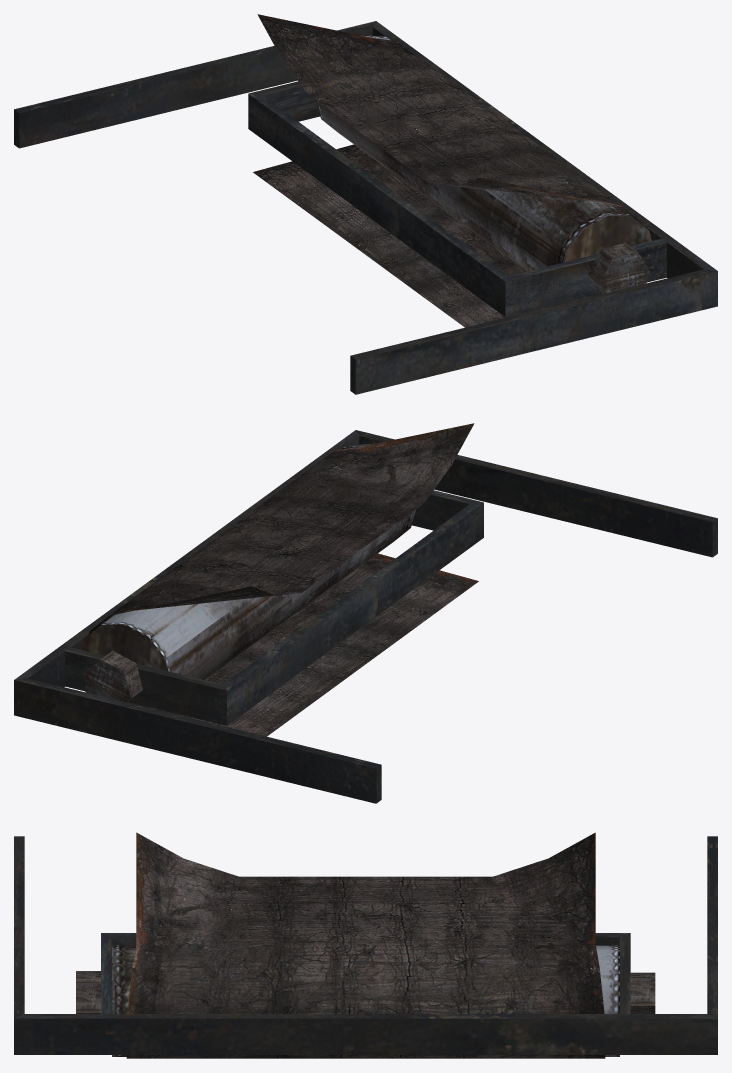
The model's file is conveyor_section_03_clean.DAE.
3 renders of one model, top to bottom at view 1: azimuth 30°, elevation 25°; view 2: azimuth 150°, elevation 25°; view 3: azimuth 270°, elevation 25°, orthographic. The views are drawn at different scales.
Visible parts, largest first — view 1: Box014, Object039, Object040; view 2: Box014, Object039, Object040; view 3: Object039, Box014, Object040.
Boxes of the visible parts, x1,y1,x2,y2 form: Box014: (14,21,717,394); Object039: (253,14,643,327); Object040: (316,35,651,301); Box014: (14,430,717,803); Object039: (88,423,478,736); Object040: (80,444,415,710); Object039: (126,832,605,1058); Box014: (14,836,717,1054); Object040: (76,945,655,1056).
Bounding box in the file's own units: 1.84 × 0.7821 × 3.
